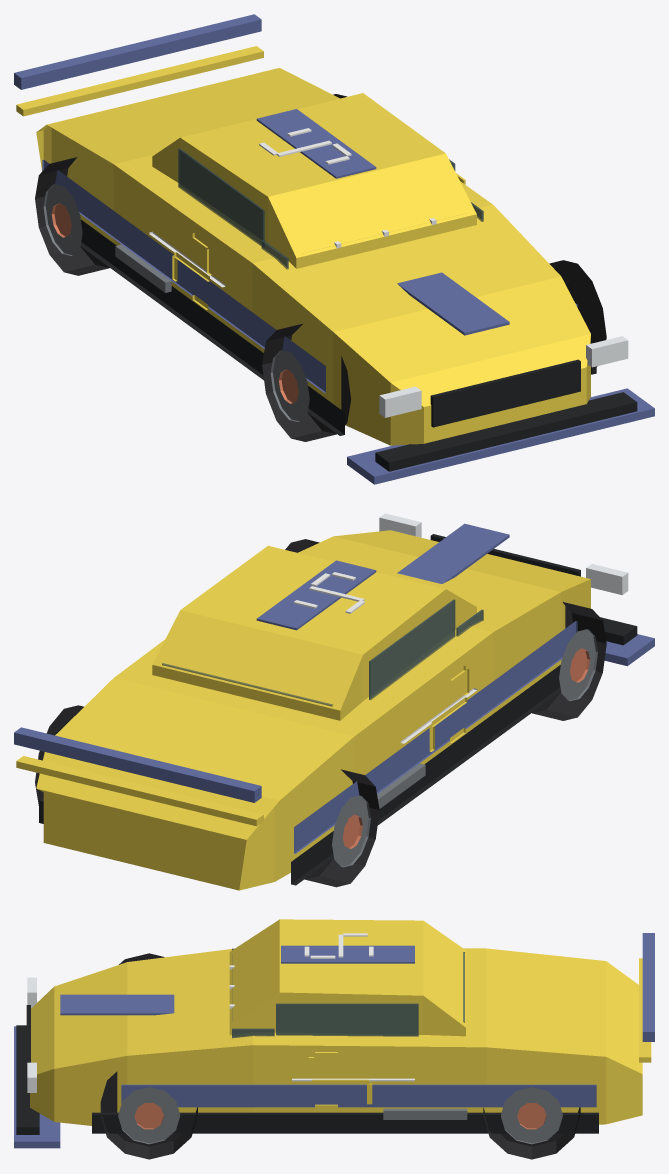
The model's file is web_stock_car_02.gltf.
3 views of the same model, one above another, from view 1: azimuth 30°, elevation 25°; view 2: azimuth 150°, elevation 25°; view 3: azimuth 270°, elevation 25° (orthographic). The views are drawn at different scales.
Visible parts, largest first — view 1: WebStockCar_02; view 2: WebStockCar_02; view 3: WebStockCar_02.
Boxes of the visible parts, box(x1,y1,x2,y2) form: WebStockCar_02: box(14, 14, 654, 484); WebStockCar_02: box(14, 513, 654, 890); WebStockCar_02: box(14, 919, 654, 1159).
Bounding box in the file's own units: 2.35 × 1.34 × 5.26.
